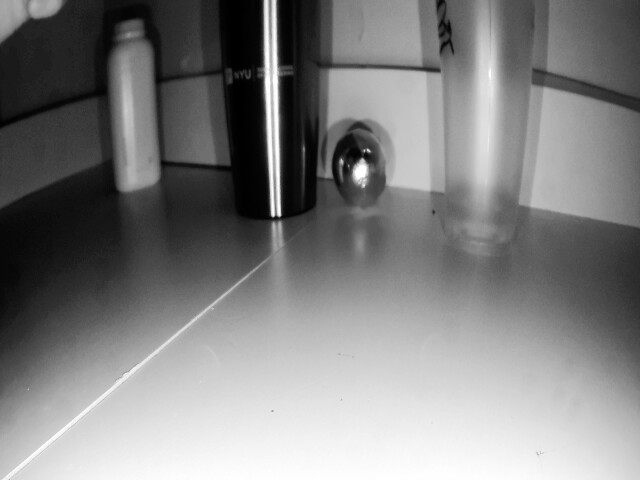black: (338, 132, 395, 217)
